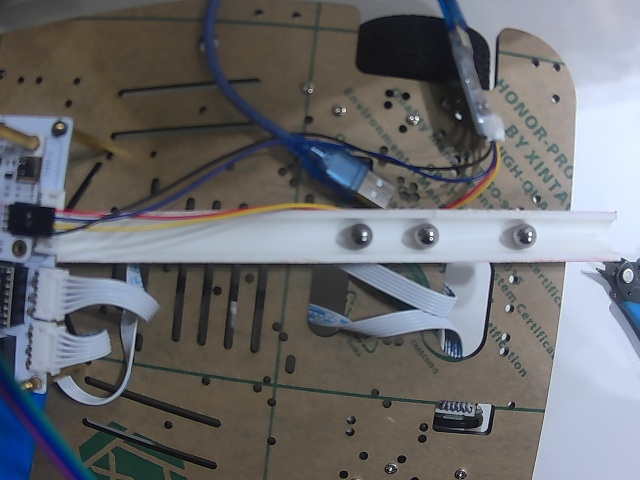steelball: (414, 224, 439, 249), (512, 224, 536, 248), (350, 224, 371, 247)
